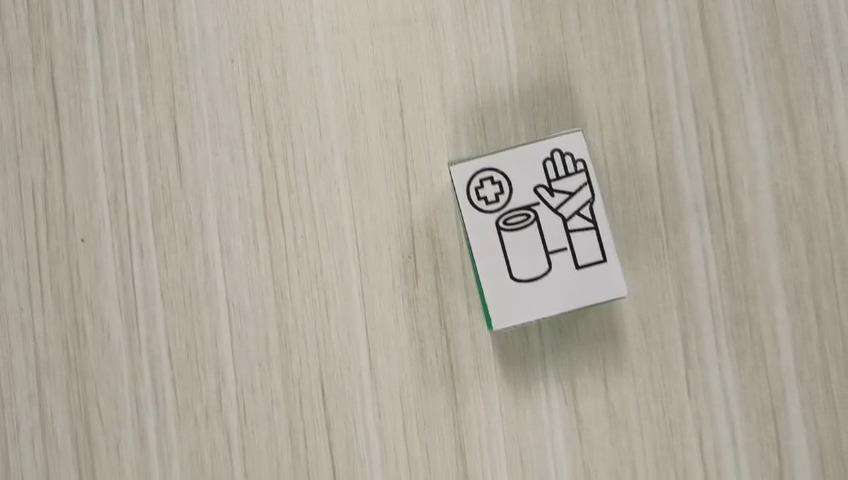Bandages: (447, 127, 627, 332)
